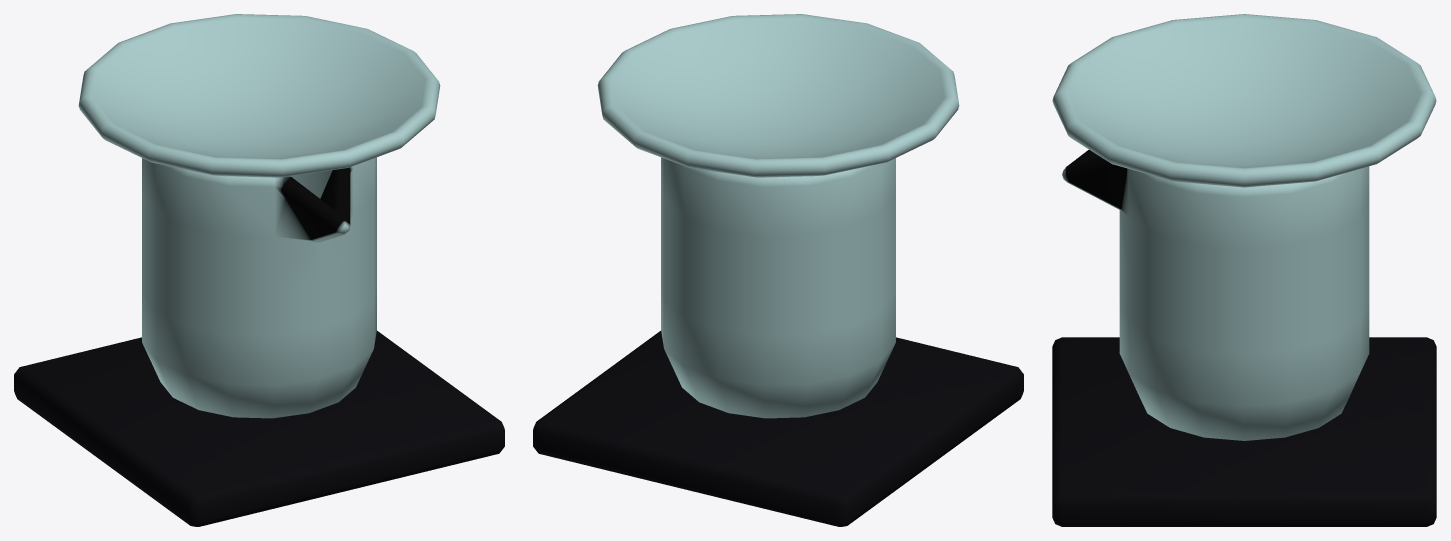
File: LastLuna_Model_Station_Incubator.fbx
3 renders of one model, left to right at view 1: azimuth 30°, elevation 25°; view 2: azimuth 150°, elevation 25°; view 3: azimuth 270°, elevation 25°, orthographic. The views are drawn at different scales.
Parts seen in each view (by area): view 1: Beaker001, Stand_Base_Small001, Watch_Glass001; view 2: Beaker001, Stand_Base_Small001, Watch_Glass001; view 3: Beaker001, Stand_Base_Small001, Watch_Glass001.
Boxes of the visible parts, left/top/right/bottom form: Beaker001: left=142, top=157, right=376, bottom=418; Stand_Base_Small001: left=14, top=330, right=504, bottom=526; Watch_Glass001: left=78, top=14, right=440, bottom=177; Beaker001: left=661, top=157, right=895, bottom=418; Stand_Base_Small001: left=533, top=330, right=1023, bottom=526; Watch_Glass001: left=597, top=14, right=959, bottom=177; Beaker001: left=1062, top=150, right=1369, bottom=440; Stand_Base_Small001: left=1052, top=337, right=1436, bottom=526; Watch_Glass001: left=1052, top=14, right=1436, bottom=187.
Bounding box in the file's own units: 100 × 103 × 100.
